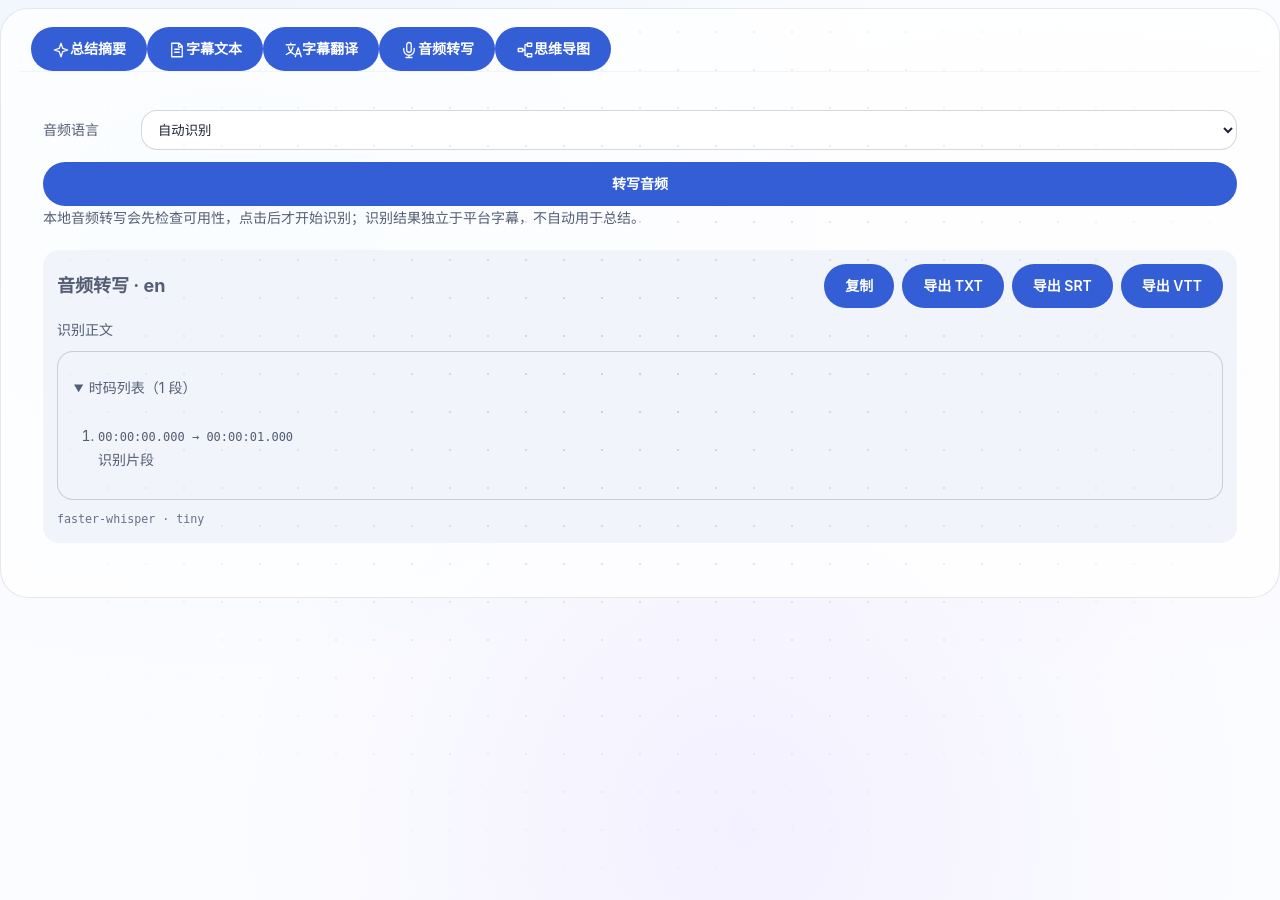
Test: VideoInsights › keeps ASR text separate from platform subtitles and identifies the actual recognized language
Expected: the heading "音频转写 · en" is shown, [57,271,166,301]
Expected: the text "尚未检测到字幕" is not shown
Select "日本語" in the dropdown labelled "音频语言" at coordinates (689, 130), box [141,110,1237,150]
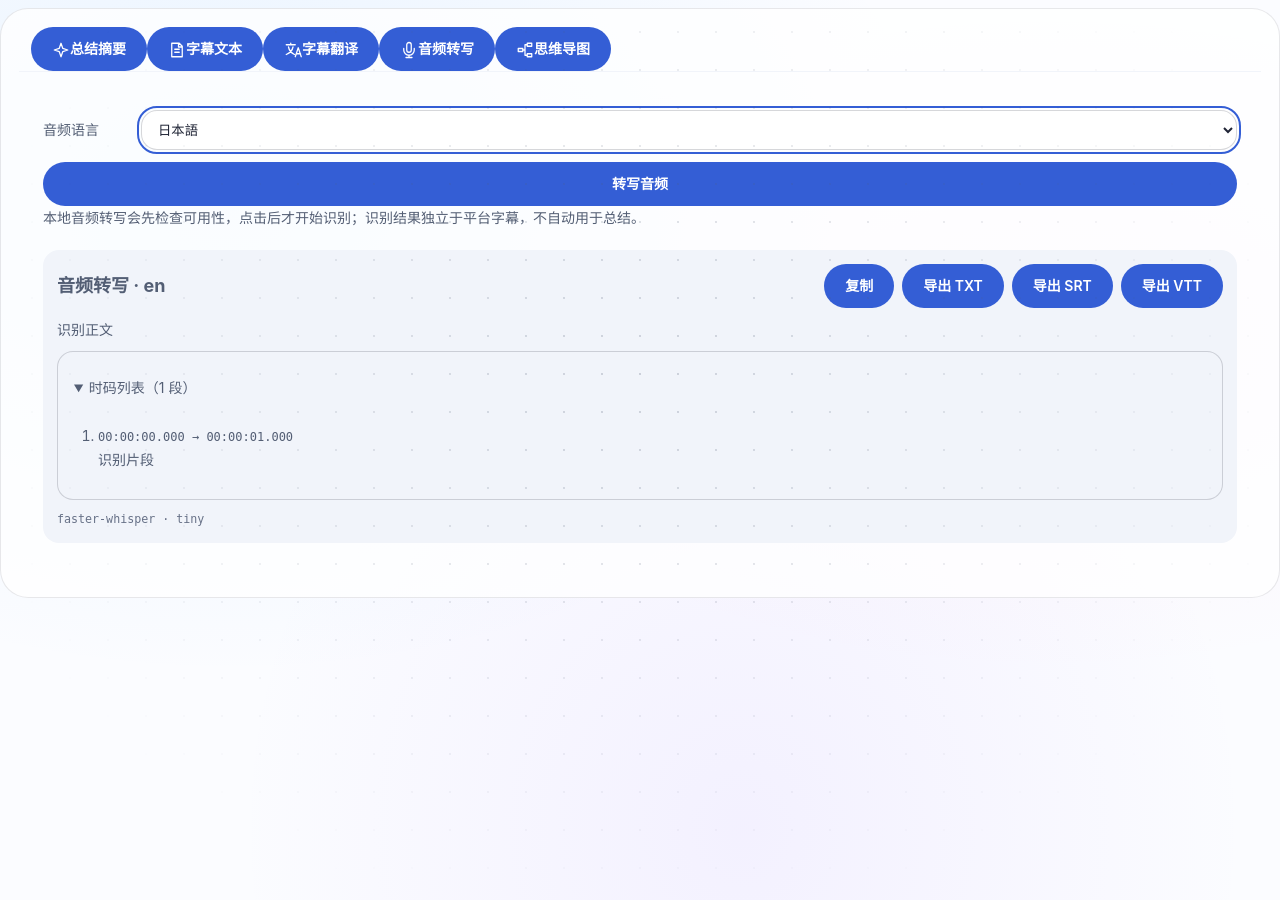
Expected: the heading "音频转写 · en" is shown, [57,271,166,301]
Click the tab "字幕文本".
click(205, 49)  # box [147,27,263,71]
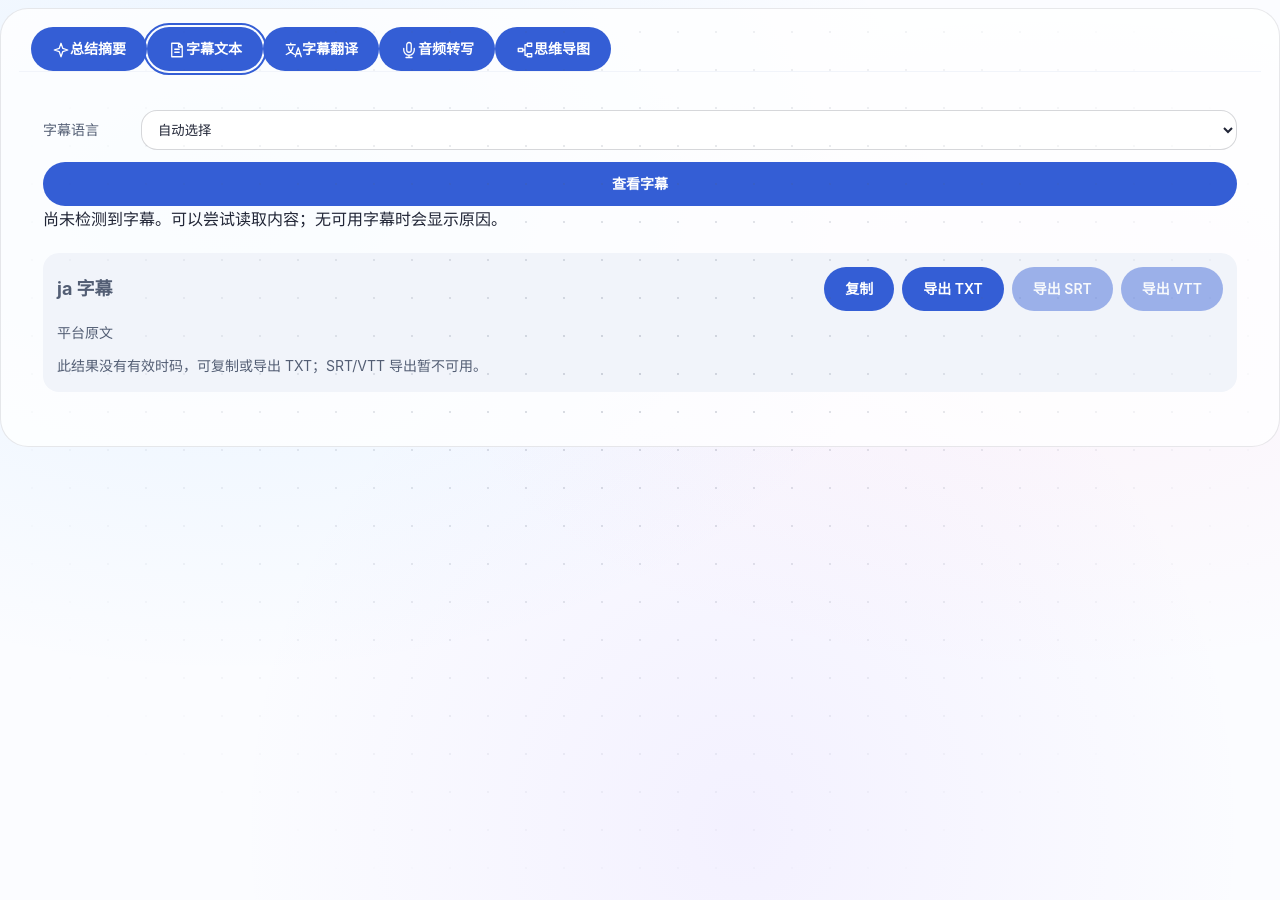
Expected: the text "平台原文" is shown, [57,324,113,341]
Expected: the text "识别正文" is gone
